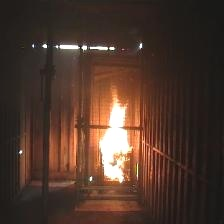fire: (96, 82, 137, 185)
